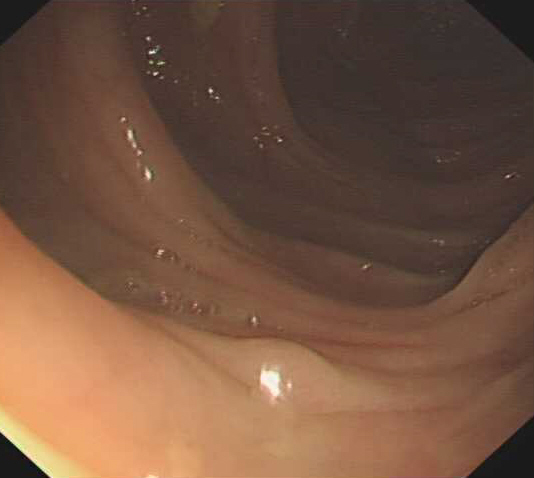others: (206, 329, 358, 415)
